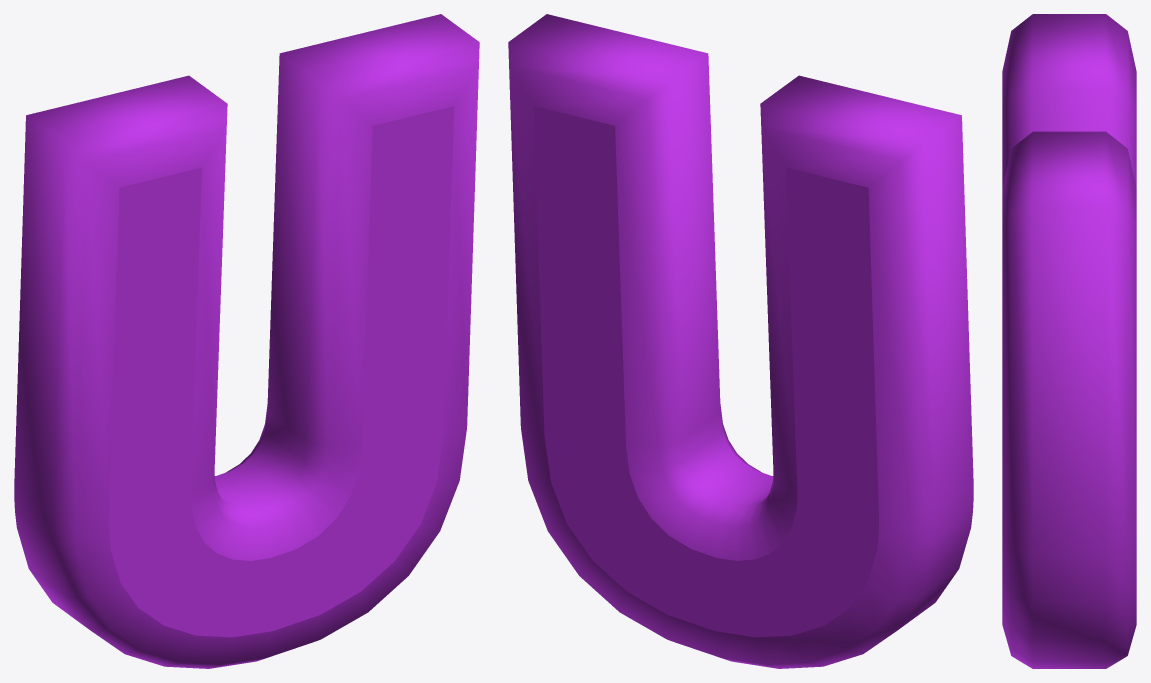
3 views of the same model, side by side, from view 1: azimuth 30°, elevation 25°; view 2: azimuth 150°, elevation 25°; view 3: azimuth 270°, elevation 25° (orthographic). The views are drawn at different scales.
Parts seen in each view (by area): view 1: u; view 2: u; view 3: u.
Part boxes in pixels (x1,y1,x2,y2): u: (14, 14, 479, 668); u: (508, 14, 973, 668); u: (1002, 14, 1136, 668).
Size of the model in its own units: 0.5323 by 0.673 by 0.1526.
